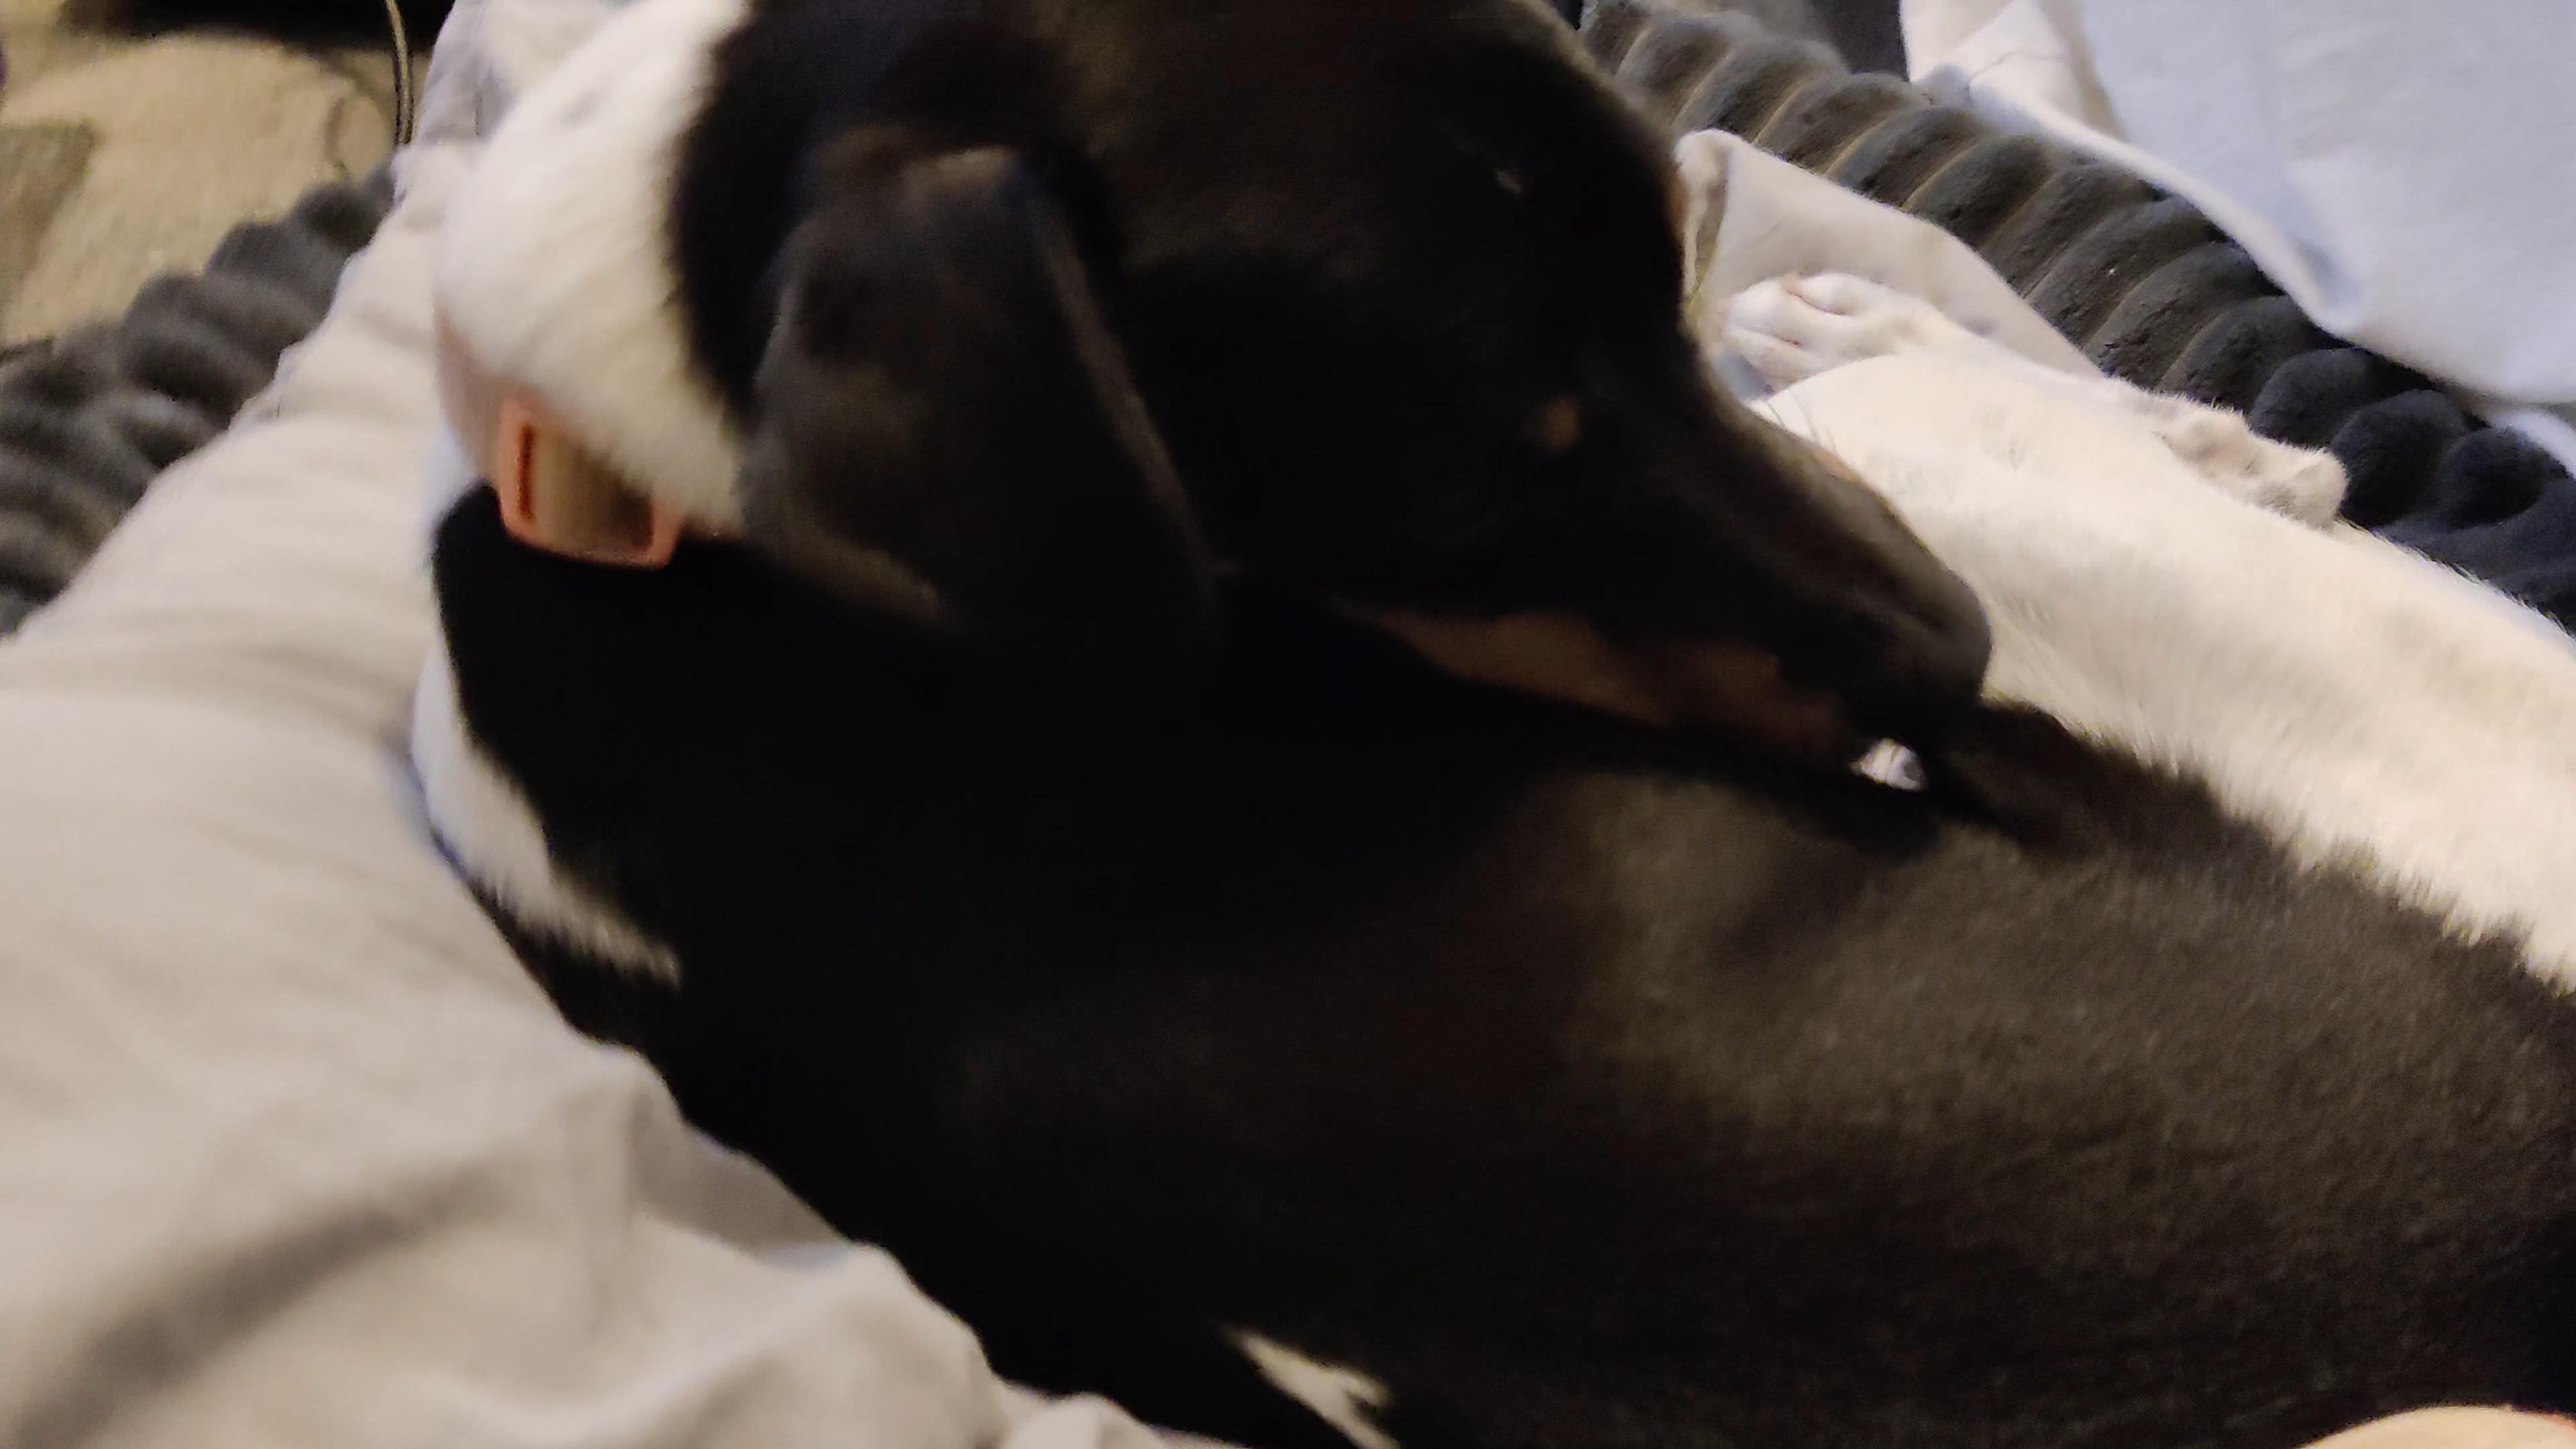Dog: (372, 0, 2576, 1449)
